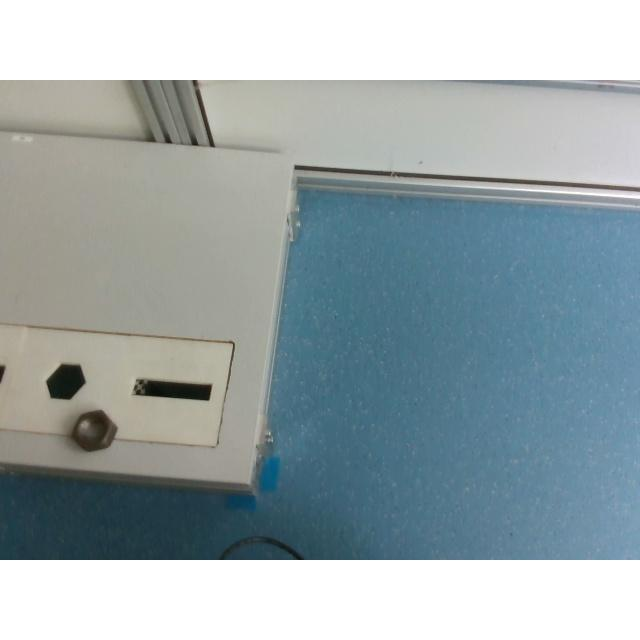M30: (70, 410, 119, 452)
